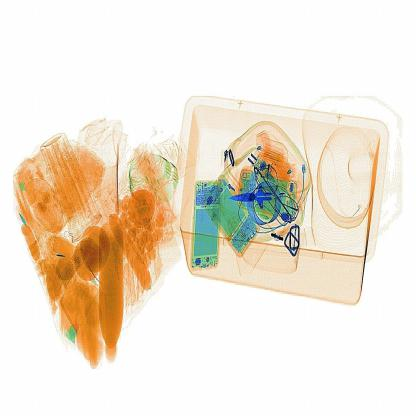gun: (224, 172, 294, 226)
